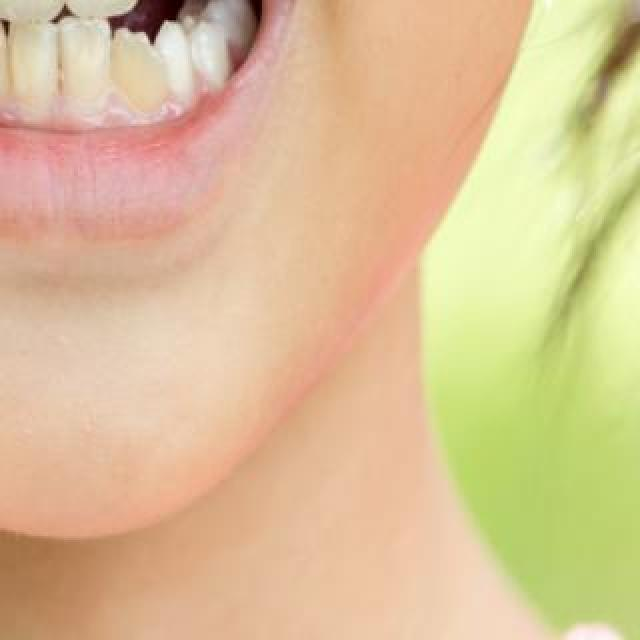maligned: (114, 21, 164, 125), (0, 14, 6, 124)
plaque: (13, 58, 113, 120)
